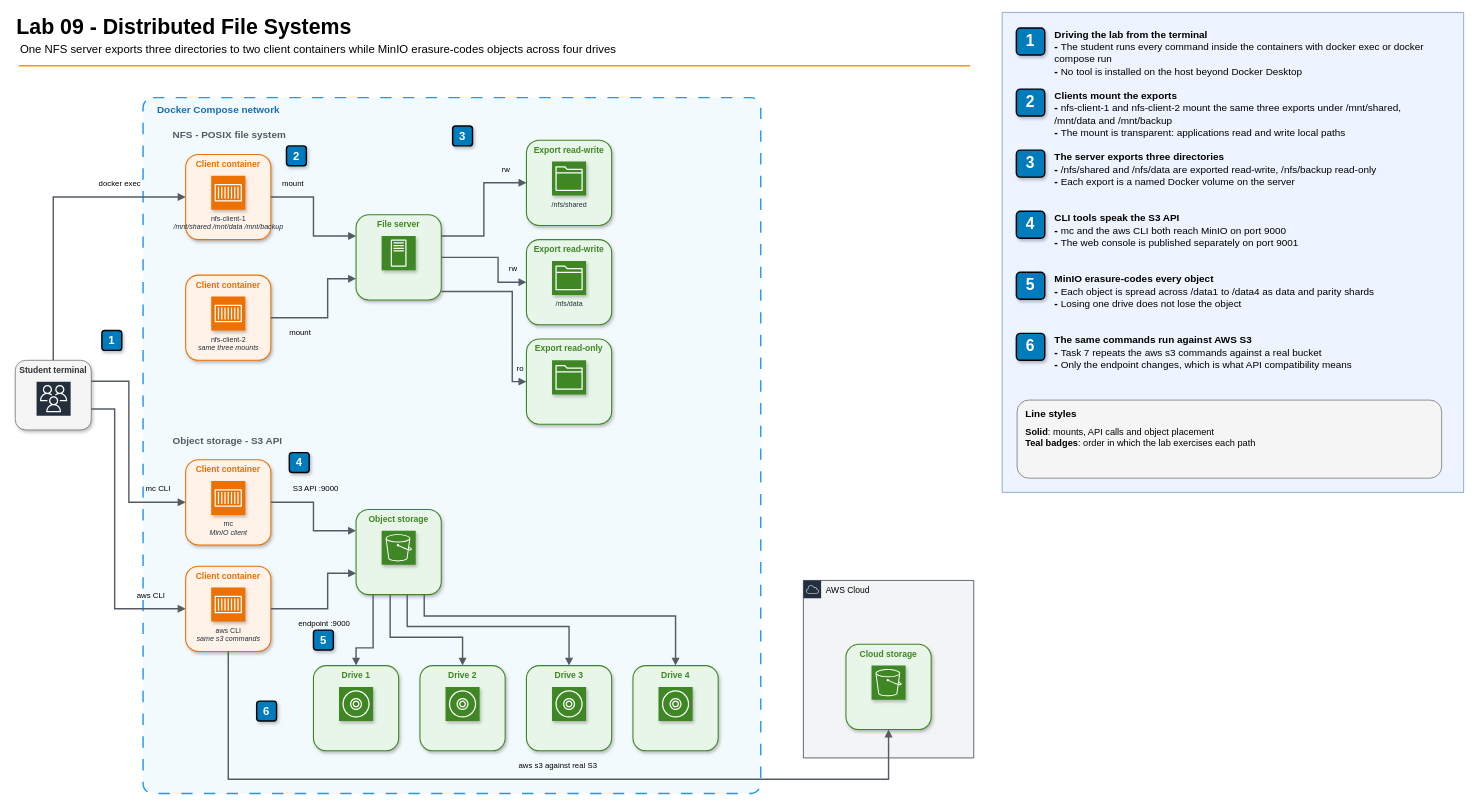
Some shapes in this 1476 by 807 pixel diagram are drawn without their labels. The centre of each missing label's shape, as x and y in pixels:
"/data1" belongs at (356,704).
"/data2" belongs at (463,704).
"/data3" belongs at (569,704).
"/data4" belongs at (676,704).
"/nfs/backup" belongs at (569,378).
"Amazon S3 Task 7 comparison" belongs at (889,683).
"minio-server API 9000 - console 9001" belongs at (399,548).
"nfs-server nfsd on port 2049" belongs at (399,254).
